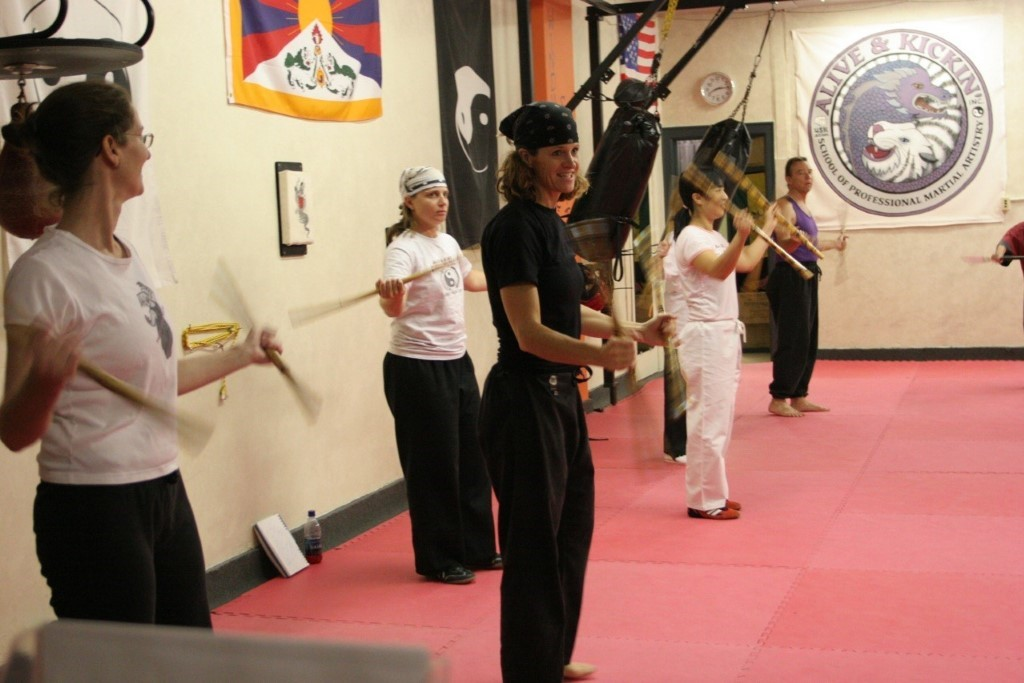baston_e: (289, 244, 476, 322), (217, 268, 313, 412), (70, 357, 217, 449), (688, 170, 808, 277), (719, 158, 821, 257)
baston_v: (802, 269, 815, 282), (817, 251, 826, 260)
